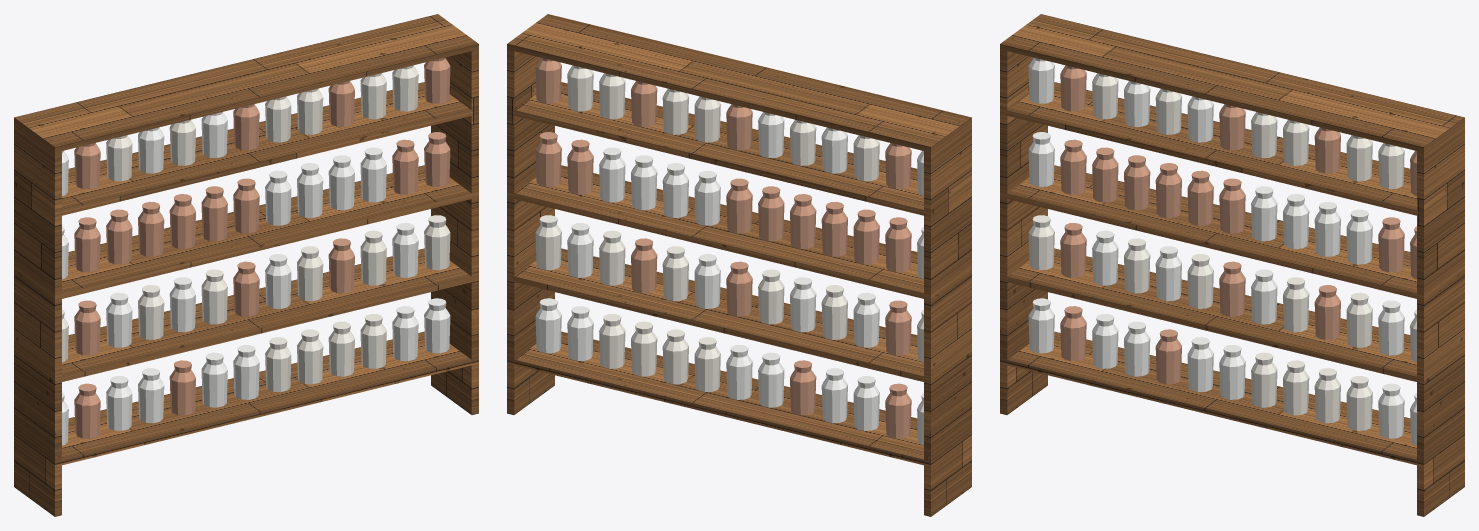
File: pantry.glb
3 renders of one model, left to right at view 1: azimuth 30°, elevation 25°; view 2: azimuth 150°, elevation 25°; view 3: azimuth 330°, elevation 25°, orthographic.
Visible parts, largest first — view 1: pantry_oak, pantry_clay, pantry_porcelain, pantry_cream; view 2: pantry_oak, pantry_clay, pantry_porcelain, pantry_cream; view 3: pantry_oak, pantry_porcelain, pantry_clay, pantry_cream.
Part boxes in pixels (x1,y1,x2,y2): pantry_oak: [14, 14, 478, 516]; pantry_clay: [74, 57, 450, 438]; pantry_porcelain: [62, 112, 450, 445]; pantry_cream: [62, 65, 450, 392]; pantry_oak: [507, 14, 971, 516]; pantry_clay: [535, 57, 911, 438]; pantry_porcelain: [535, 112, 923, 445]; pantry_cream: [535, 65, 923, 392]; pantry_oak: [1000, 14, 1464, 516]; pantry_porcelain: [1028, 57, 1416, 445]; pantry_clay: [1060, 65, 1416, 384]; pantry_cream: [1028, 73, 1416, 430].
Size of the model in its own units: 2.4 by 2 by 0.4.
4 materials, 1 textured.
